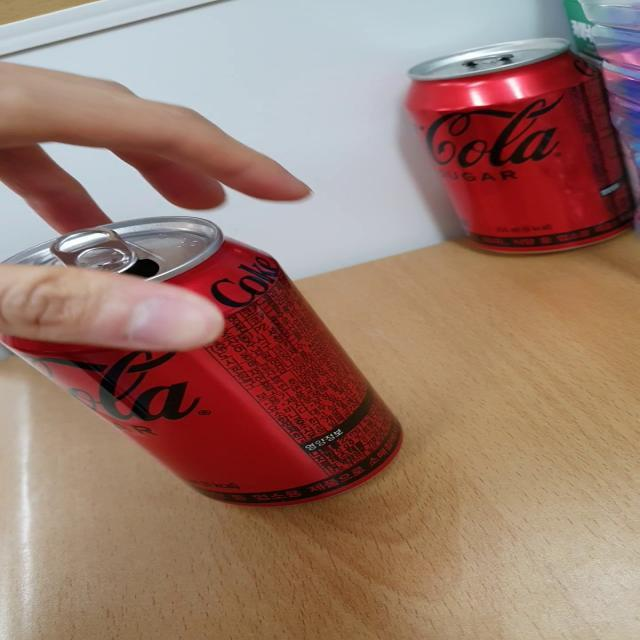coca-cola: (0, 201, 422, 521), (400, 30, 640, 266)
